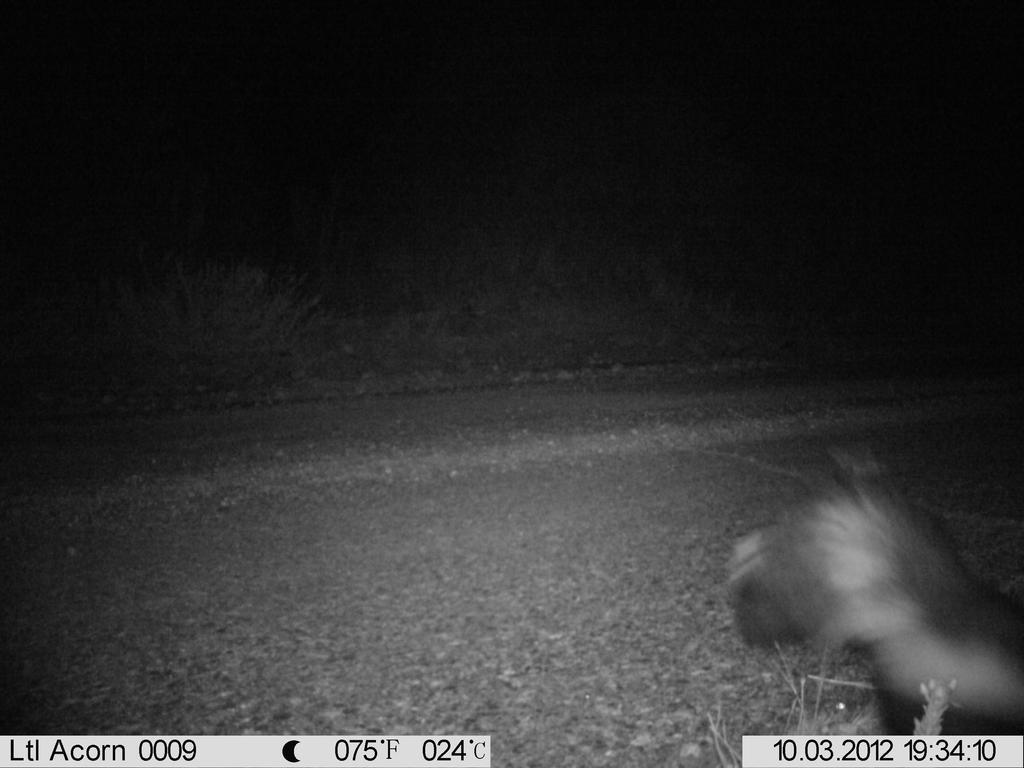skunk: (711, 424, 1023, 735)
